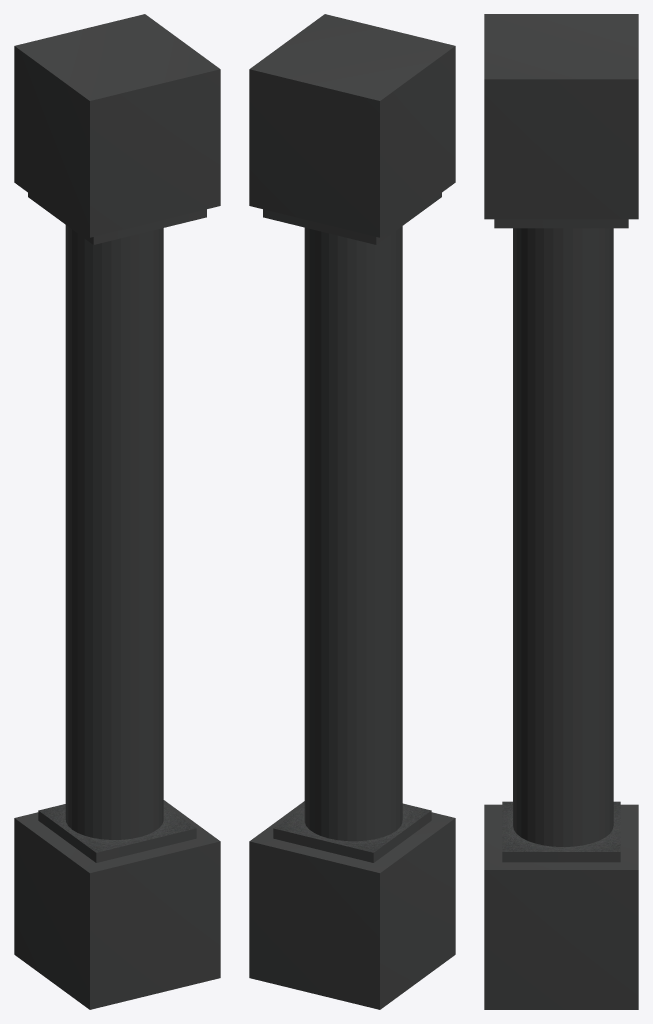
Rendered from pillar.obj.
3 renders of one model, left to right at view 1: azimuth 30°, elevation 25°; view 2: azimuth 150°, elevation 25°; view 3: azimuth 270°, elevation 25°, orthographic. The views are drawn at different scales.
Visible parts, largest first — view 1: Pillar_Cube.003; view 2: Pillar_Cube.003; view 3: Pillar_Cube.003.
Part boxes in pixels (x1=…): Pillar_Cube.003: x1=14, y1=14, x2=220, y2=1009; Pillar_Cube.003: x1=249, y1=14, x2=455, y2=1009; Pillar_Cube.003: x1=484, y1=14, x2=638, y2=1009.
Bounding box in the file's own units: 4.62 × 30.7 × 4.62.
Materials: 1 (1 with a texture image).
